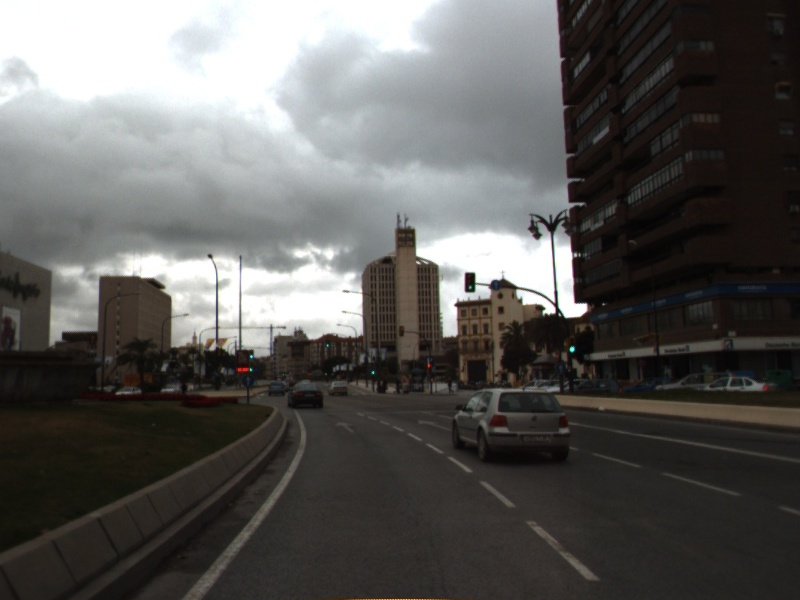STRAIGHT: (415, 416, 454, 432), (332, 418, 357, 435)
